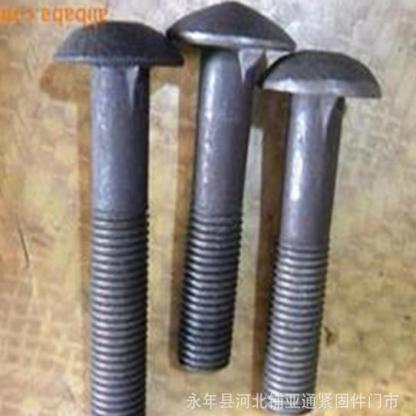FOD: (49, 14, 184, 415), (160, 0, 297, 373), (254, 45, 383, 415)
